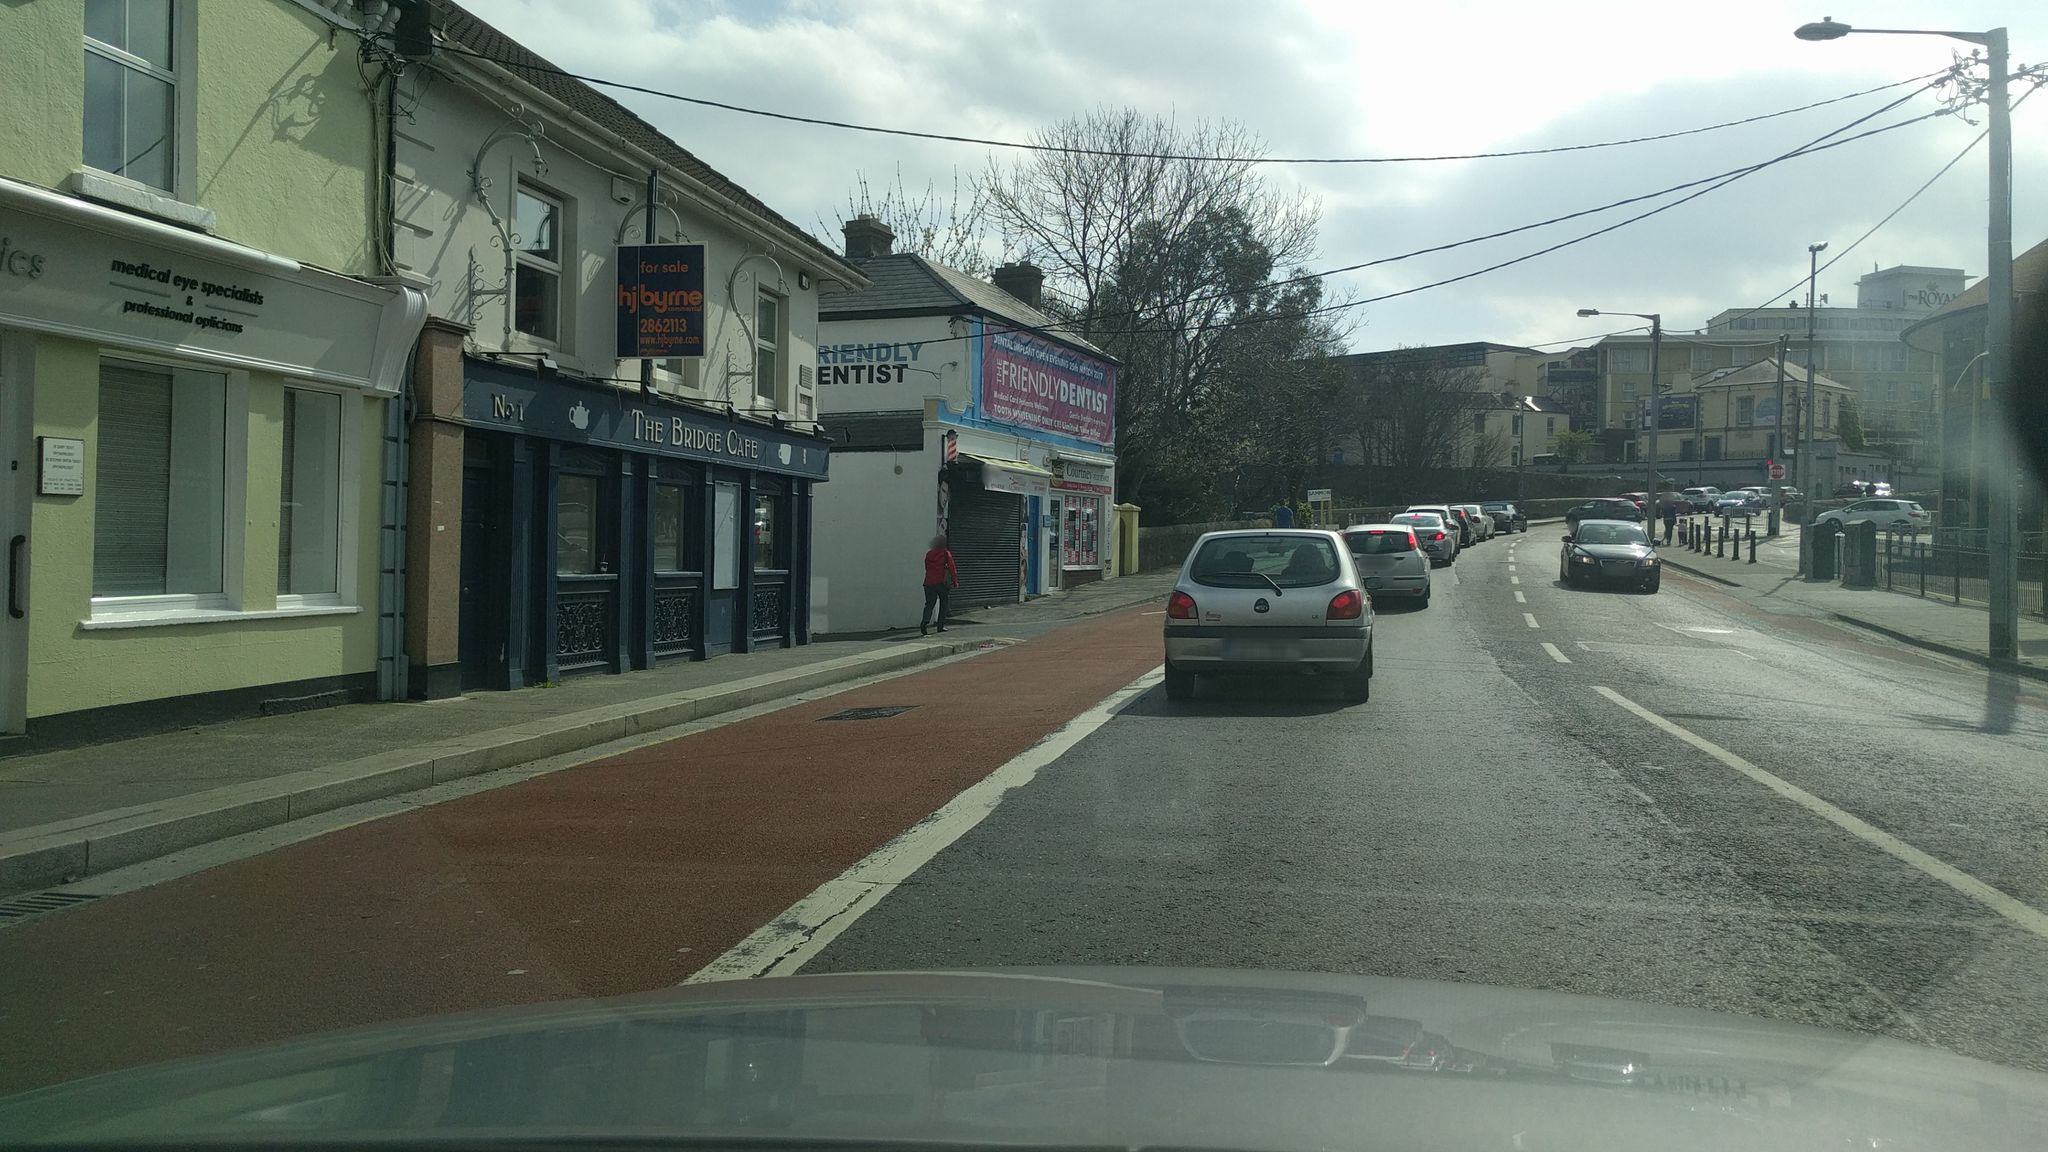property sign: (609, 231, 716, 392)
vinyl banner: (956, 311, 1141, 464)
